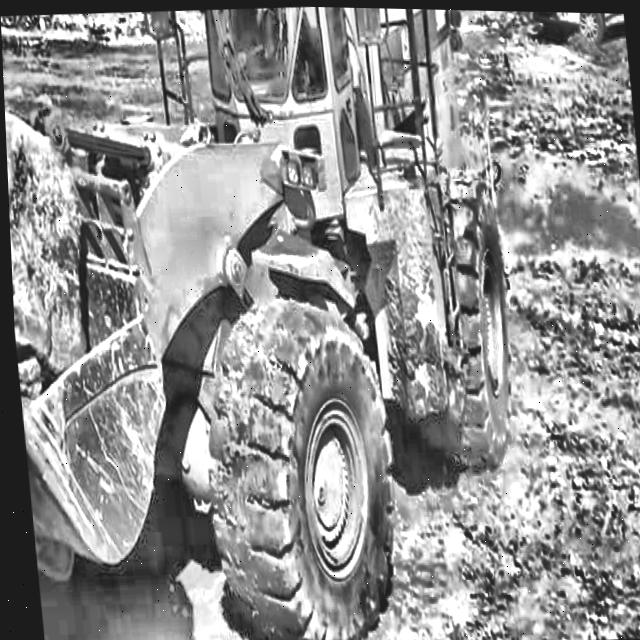buldozerpayloadergrader: (0, 0, 542, 640)
